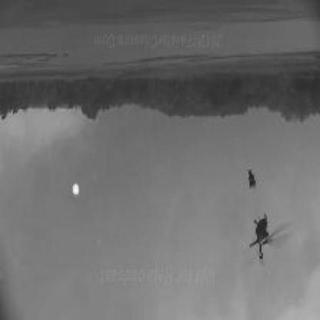other: (3, 108, 123, 168)
